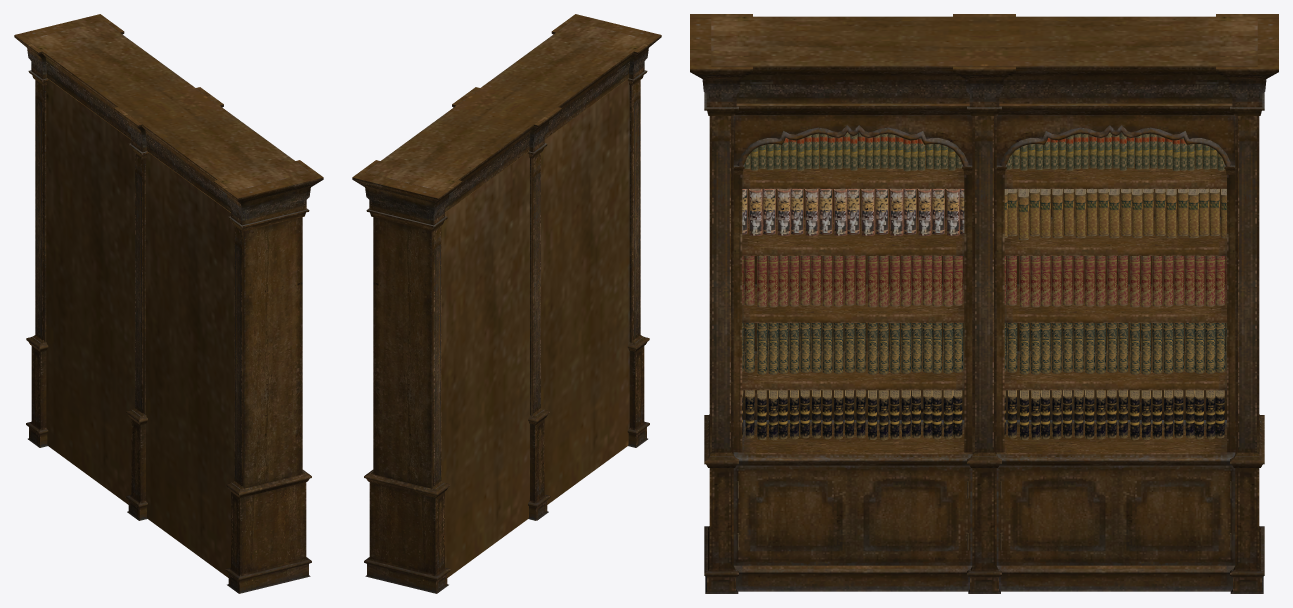
File: sm39_115_bookshelsetf01a.fbx
The picture shows the model from 3 angles, left to right: view 1: azimuth 30°, elevation 25°; view 2: azimuth 150°, elevation 25°; view 3: azimuth 270°, elevation 25°; orthographic projection. The views are drawn at different scales.
Visible parts, largest first — view 1: LOD_1_Group_0_Sub_1__sm30_159_BookShelf01A_B_Mat; view 2: LOD_1_Group_0_Sub_1__sm30_159_BookShelf01A_B_Mat; view 3: LOD_1_Group_0_Sub_1__sm30_159_BookShelf01A_B_Mat, LOD_1_Group_1_Sub_1__sm36_001_BookSet01A_A_Mat, LOD_1_Group_5_Sub_1__sm36_001_BookSet01A_A_Mat, LOD_1_Group_7_Sub_1__sm36_001_BookSet01A_A_Mat, LOD_1_Group_6_Sub_1__sm36_001_BookSet01A_A_Mat, LOD_1_Group_4_Sub_1__sm36_001_BookSet01A_A_Mat, LOD_1_Group_2_Sub_1__sm36_001_BookSet01A_A_Mat, LOD_1_Group_8_Sub_1__sm36_001_BookSet01A_A_Mat, LOD_1_Group_0_Sub_2__sm36_001_BookSet01A_A_Mat, LOD_1_Group_3_Sub_1__sm36_001_BookSet01A_A_Mat, LOD_1_Group_9_Sub_1__sm36_001_BookSet01A_A_Mat.
Part boxes in pixels (<box>): LOD_1_Group_0_Sub_1__sm30_159_BookShelf01A_B_Mat: <box>14,14,323,593</box>; LOD_1_Group_0_Sub_1__sm30_159_BookShelf01A_B_Mat: <box>352,14,661,593</box>; LOD_1_Group_0_Sub_1__sm30_159_BookShelf01A_B_Mat: <box>690,14,1278,593</box>; LOD_1_Group_1_Sub_1__sm36_001_BookSet01A_A_Mat: <box>742,323,964,374</box>; LOD_1_Group_5_Sub_1__sm36_001_BookSet01A_A_Mat: <box>742,256,964,307</box>; LOD_1_Group_7_Sub_1__sm36_001_BookSet01A_A_Mat: <box>1004,323,1226,374</box>; LOD_1_Group_6_Sub_1__sm36_001_BookSet01A_A_Mat: <box>1004,256,1226,307</box>; LOD_1_Group_4_Sub_1__sm36_001_BookSet01A_A_Mat: <box>1004,189,1226,240</box>; LOD_1_Group_2_Sub_1__sm36_001_BookSet01A_A_Mat: <box>742,189,964,235</box>; LOD_1_Group_8_Sub_1__sm36_001_BookSet01A_A_Mat: <box>1004,390,1226,440</box>; LOD_1_Group_0_Sub_2__sm36_001_BookSet01A_A_Mat: <box>742,390,962,440</box>; LOD_1_Group_3_Sub_1__sm36_001_BookSet01A_A_Mat: <box>1006,132,1224,171</box>; LOD_1_Group_9_Sub_1__sm36_001_BookSet01A_A_Mat: <box>744,132,961,171</box>.
Bounding box in the file's own units: 0.6117 × 2.72 × 2.74.
